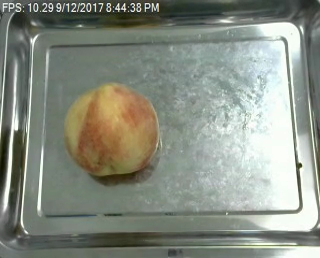Peach: (64, 82, 160, 176)
